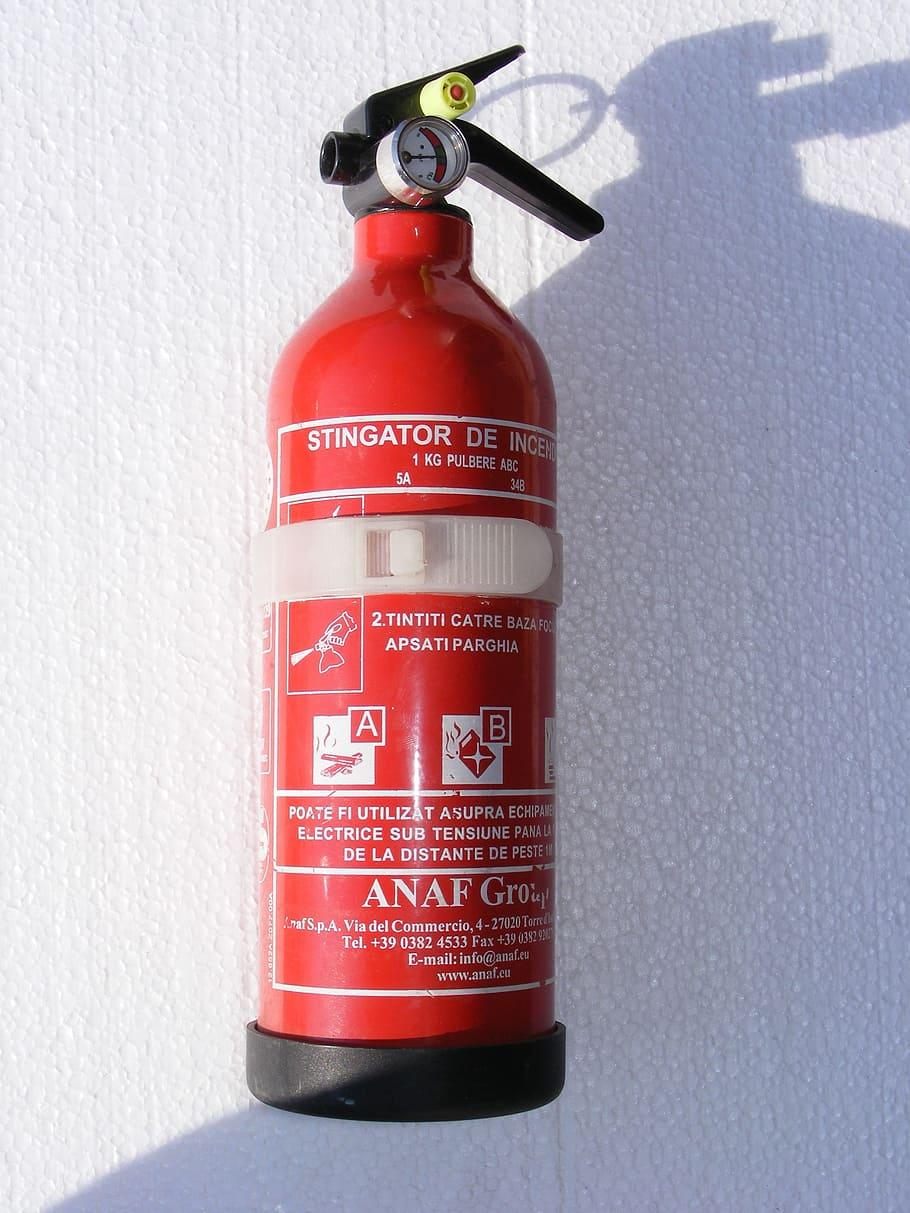Fire Extinguisher: (230, 33, 617, 1140)
